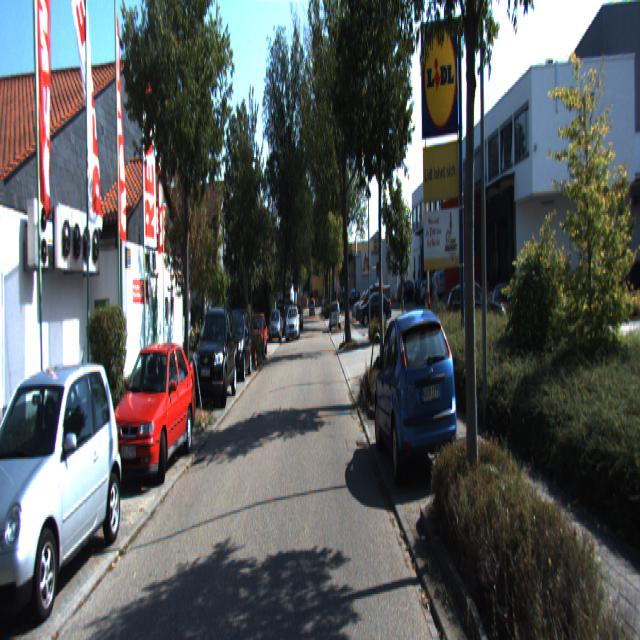Car: (0, 354, 125, 638), (373, 301, 461, 489), (111, 339, 197, 487), (193, 306, 238, 412), (219, 310, 252, 385), (358, 289, 392, 325), (246, 312, 267, 359), (285, 306, 300, 340), (330, 299, 341, 332)
